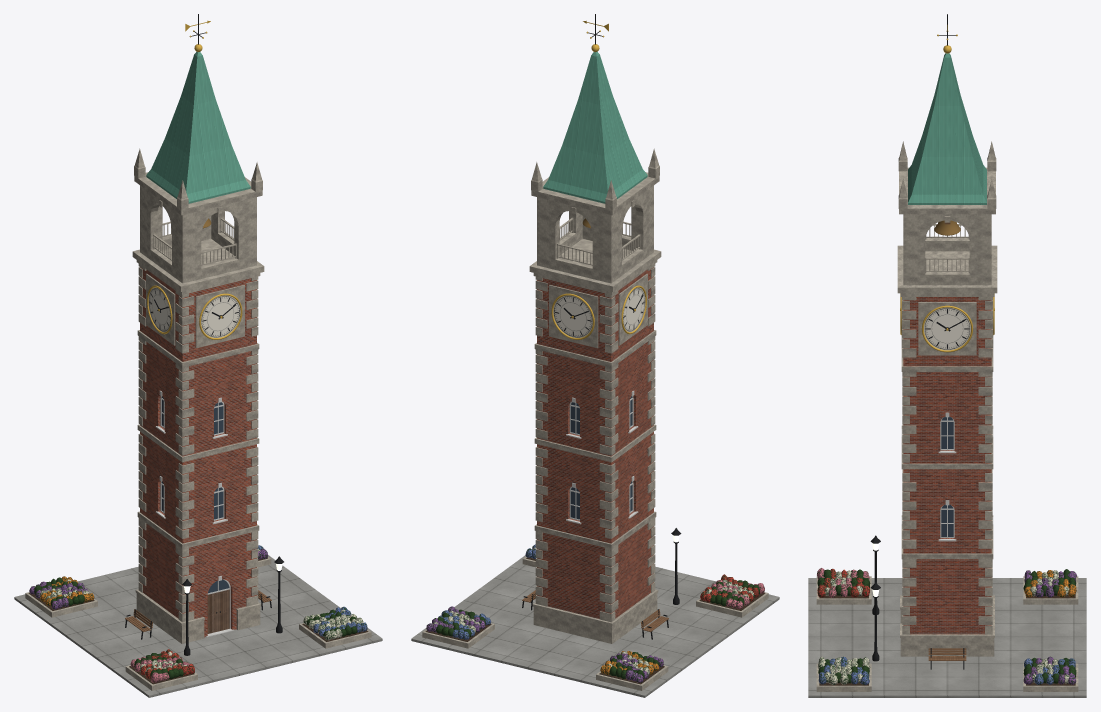
The model's file is clock-tower.glb.
The picture shows the model from 3 angles, left to right: view 1: azimuth 30°, elevation 25°; view 2: azimuth 150°, elevation 25°; view 3: azimuth 270°, elevation 25°; orthographic projection. The views are drawn at different scales.
Parts seen in each view (by area): view 1: Clock_Tower; view 2: Clock_Tower; view 3: Clock_Tower.
Boxes of the visible parts, left/top/right/bottom form: Clock_Tower: left=14, top=14, right=382, bottom=697; Clock_Tower: left=411, top=14, right=779, bottom=697; Clock_Tower: left=808, top=14, right=1086, bottom=697.
Bounding box in the file's own units: 13.2 × 32.7 × 13.2.
Materials: 22 (17 with a texture image).
